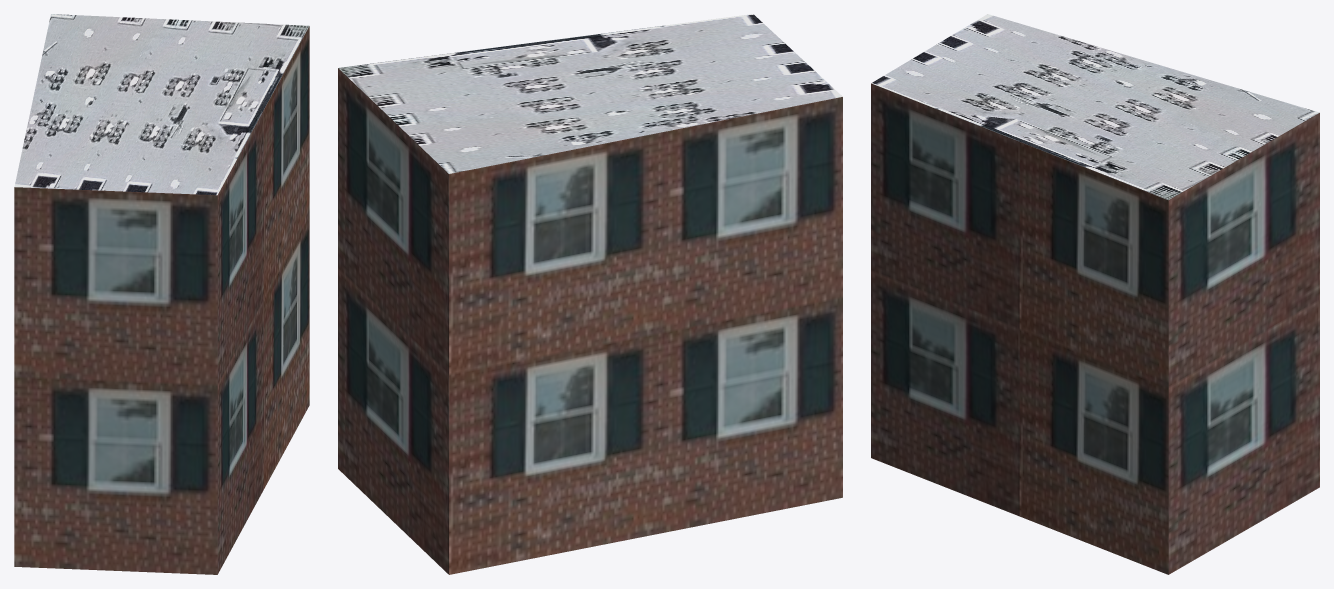
The model's file is ResTex__309.fbx.
The picture shows the model from 3 angles, left to right: view 1: azimuth 30°, elevation 25°; view 2: azimuth 150°, elevation 25°; view 3: azimuth 270°, elevation 25°; orthographic projection. The views are drawn at different scales.
Visible parts, largest first — view 1: CityEngineMaterial_14_m, CityEngineMaterial_2_m; view 2: CityEngineMaterial_14_m, CityEngineMaterial_2_m; view 3: CityEngineMaterial_14_m, CityEngineMaterial_2_m.
Boxes of the visible parts, box(x1,y1,x2,y2) form: CityEngineMaterial_14_m: box(14, 26, 309, 574); CityEngineMaterial_2_m: box(14, 14, 309, 195); CityEngineMaterial_14_m: box(338, 68, 842, 574); CityEngineMaterial_2_m: box(338, 14, 842, 173); CityEngineMaterial_14_m: box(871, 83, 1319, 574); CityEngineMaterial_2_m: box(871, 14, 1319, 199).
Size of the model in its own units: 6.39 by 6 by 6.51.
2 materials, 2 textured.
